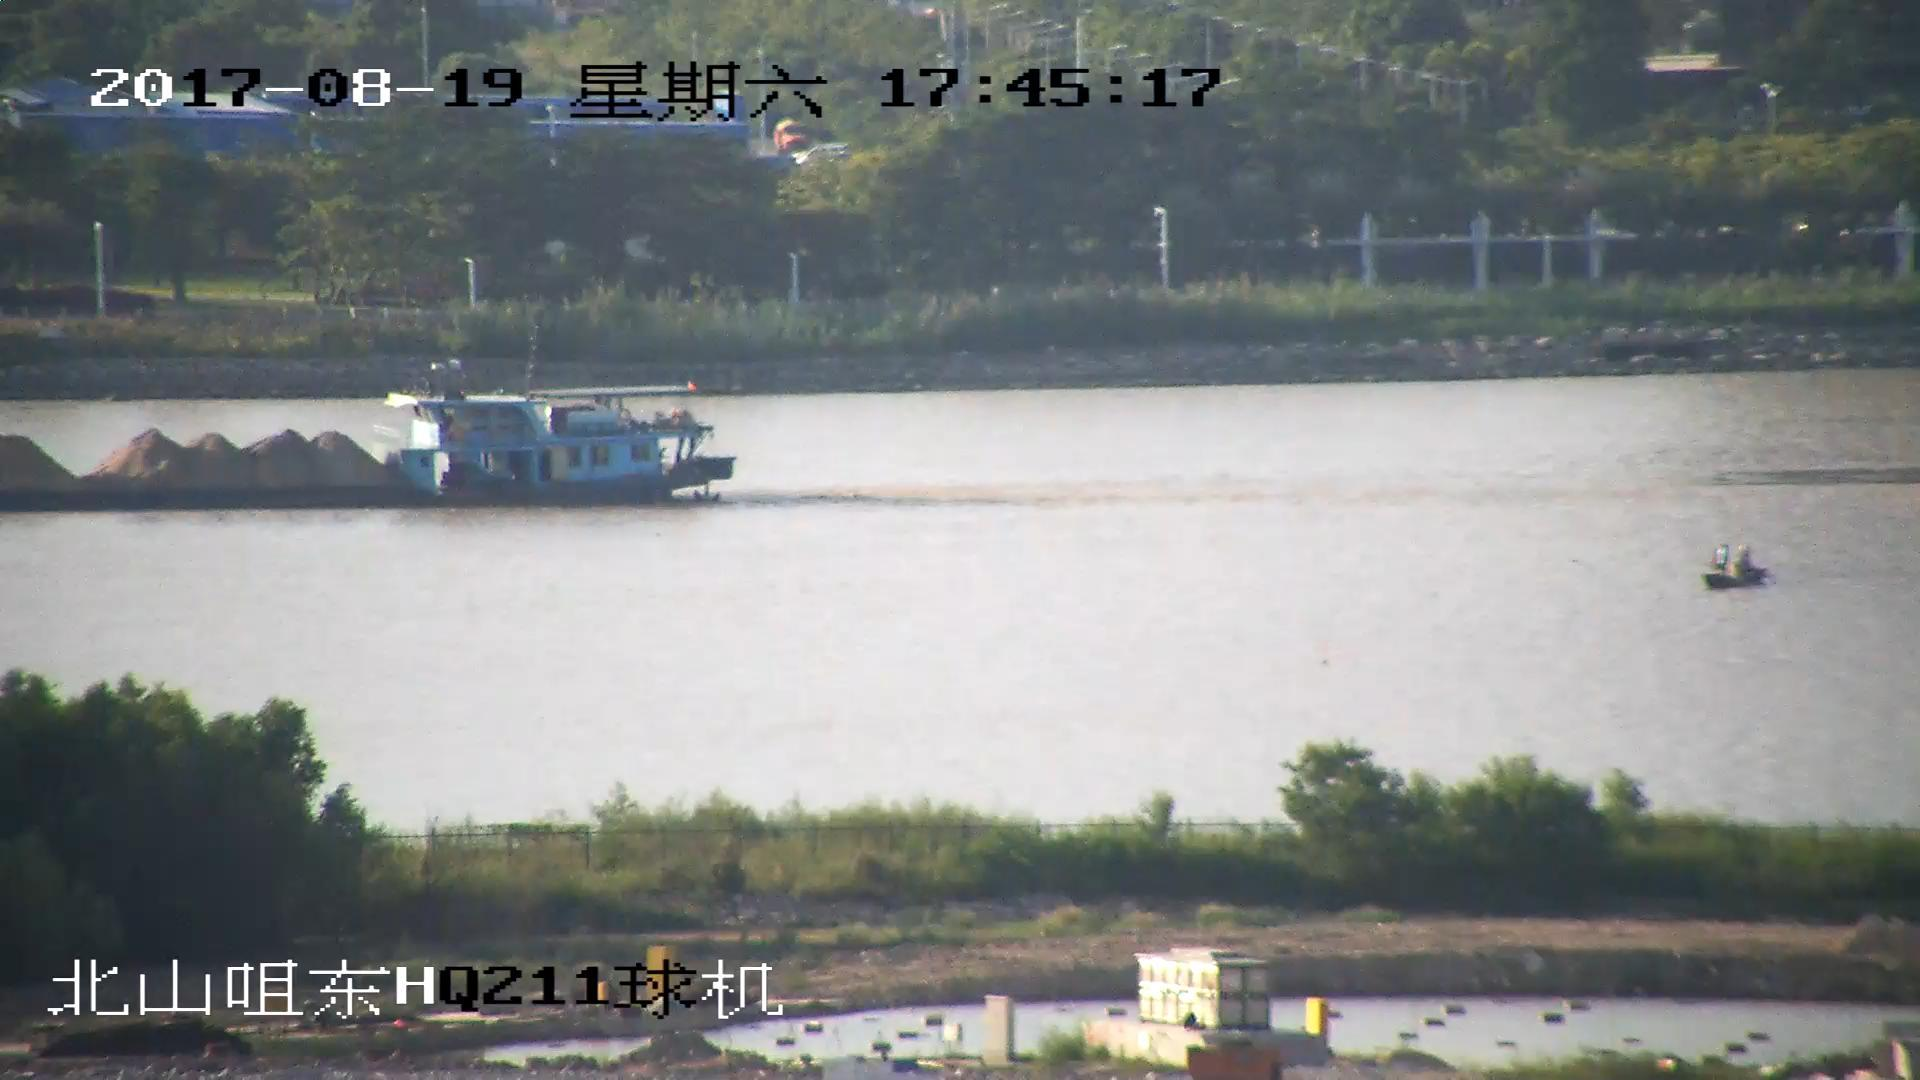Ship: (3, 367, 738, 512), (1709, 545, 1771, 591)
